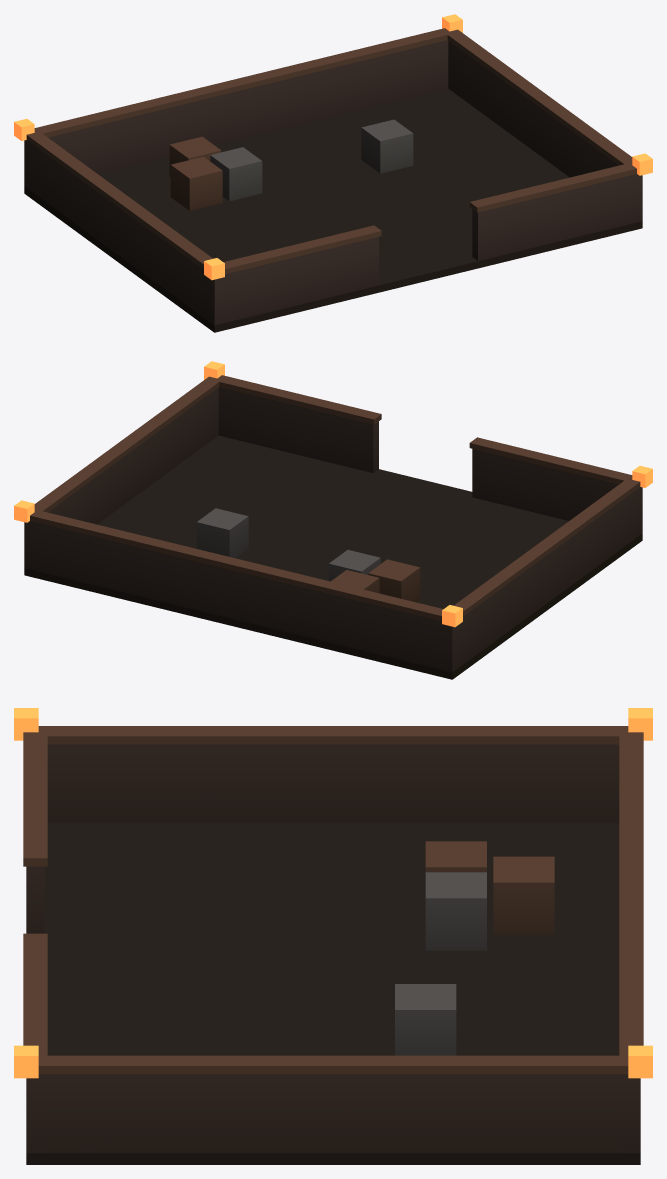
The model's file is shaddai_dist_volcano_b4_v01.glb.
3 renders of one model, top to bottom at view 1: azimuth 30°, elevation 25°; view 2: azimuth 150°, elevation 25°; view 3: azimuth 270°, elevation 25°, orthographic. The views are drawn at different scales.
Visible parts, largest first — view 1: shaddai_dist_volcano_b4; view 2: shaddai_dist_volcano_b4; view 3: shaddai_dist_volcano_b4.
Part boxes in pixels (<box>): shaddai_dist_volcano_b4: <box>14,14,652,332</box>; shaddai_dist_volcano_b4: <box>14,361,652,679</box>; shaddai_dist_volcano_b4: <box>14,708,652,1164</box>.
Bounding box in the file's own units: 26.8 × 4.1 × 20.8.
